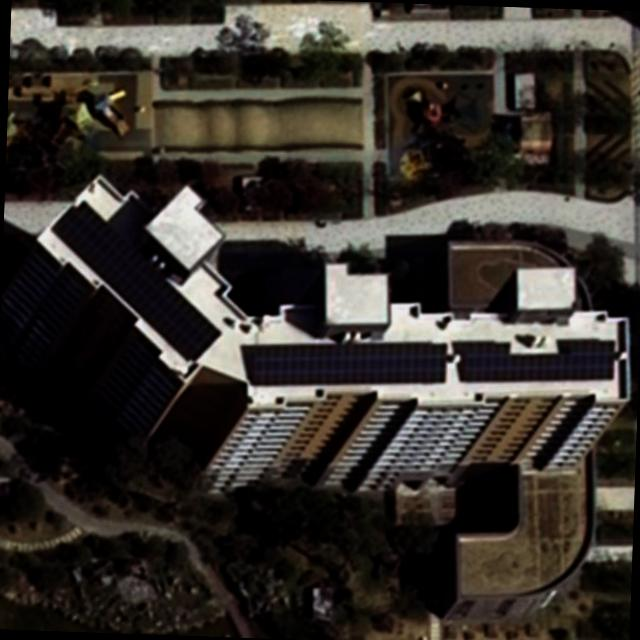solar: (50, 198, 228, 362), (246, 330, 454, 394), (456, 329, 620, 388)
